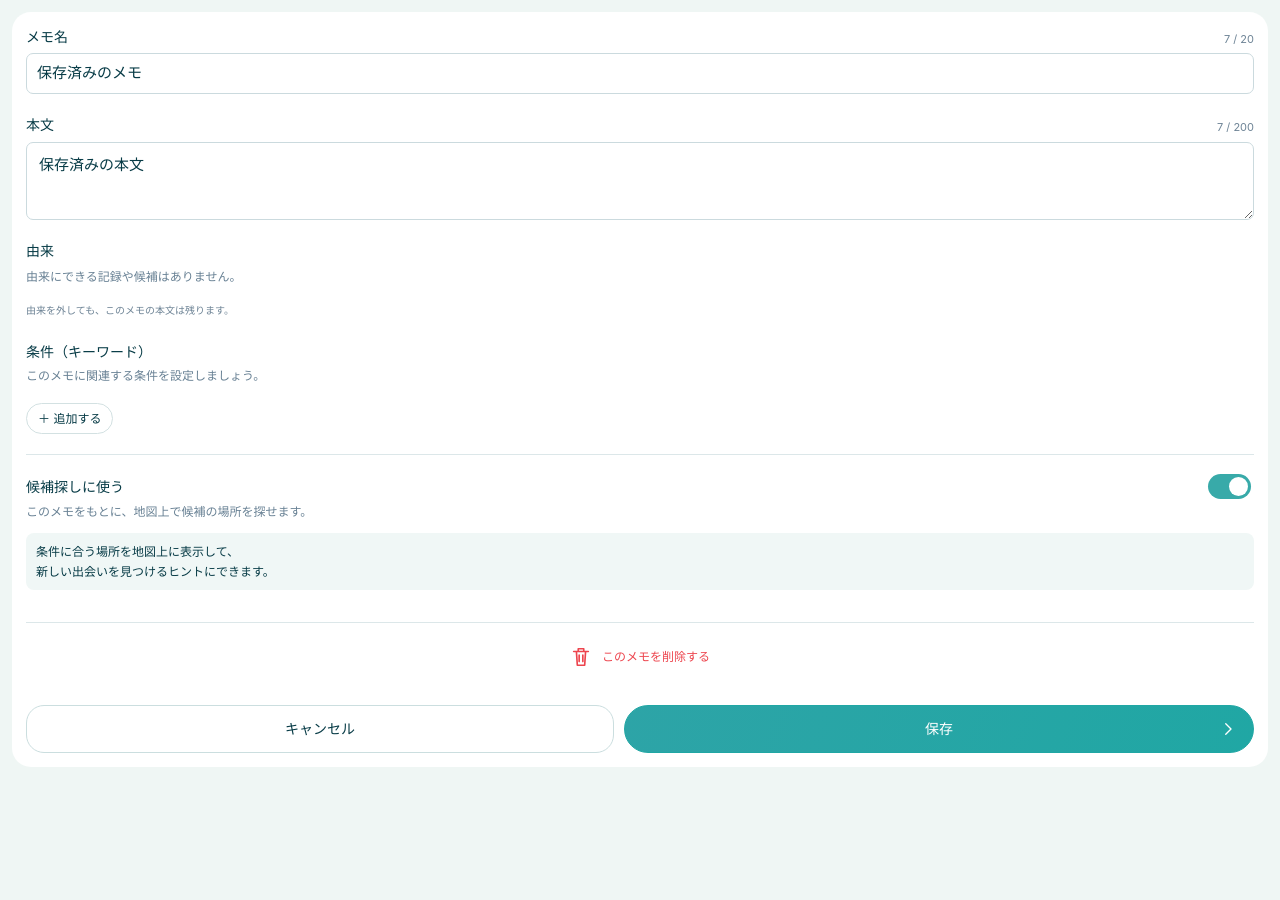
キャンセル後に未確定キーワードと削除確認を残さない
Click the button "＋ 追加する" at (70, 419), box [26,403,113,434]
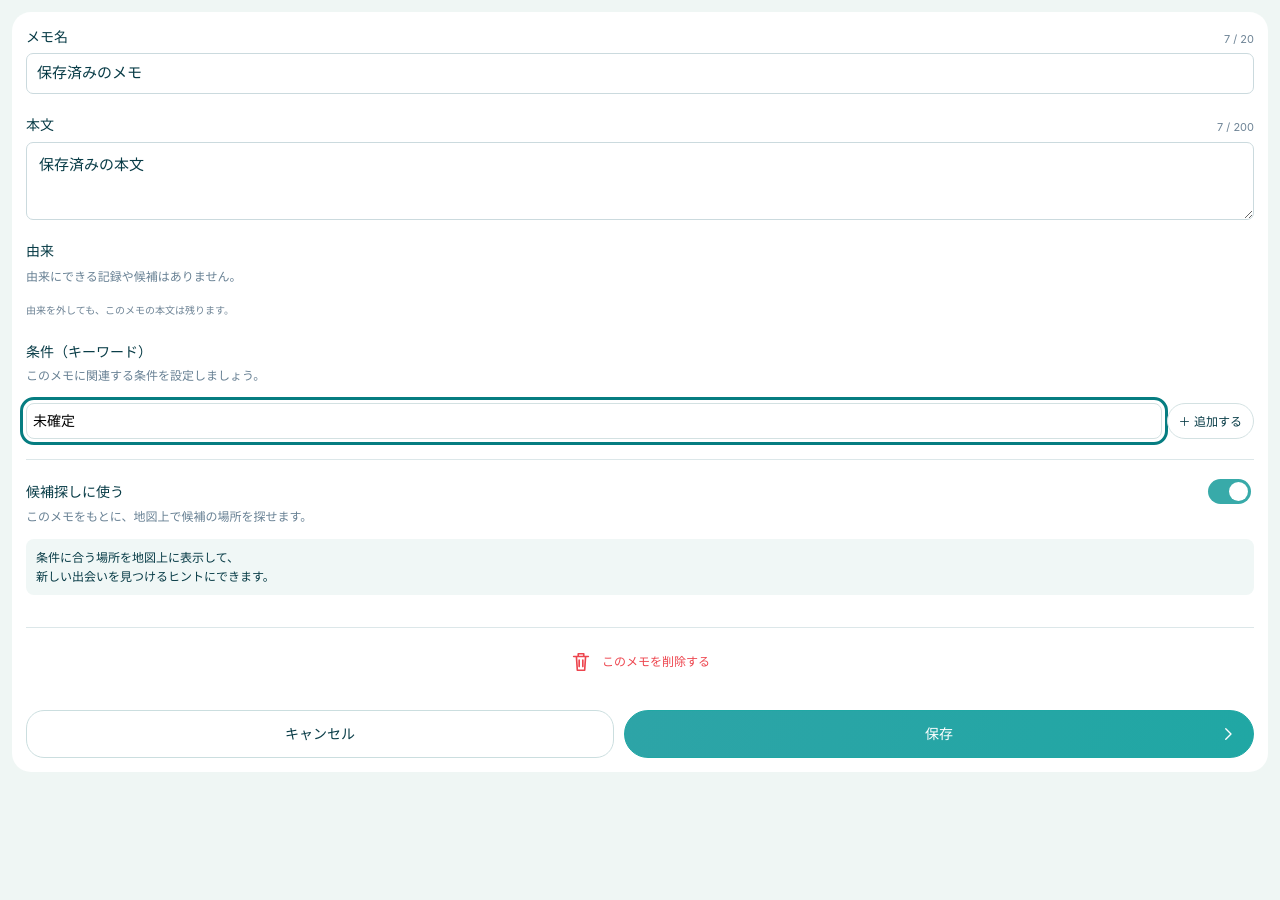
Expected: the field named "追加するキーワード" holds "未確定", [26,403,1162,440]
Click the button "このメモを削除する" at (640, 662), box [26,644,1254,680]
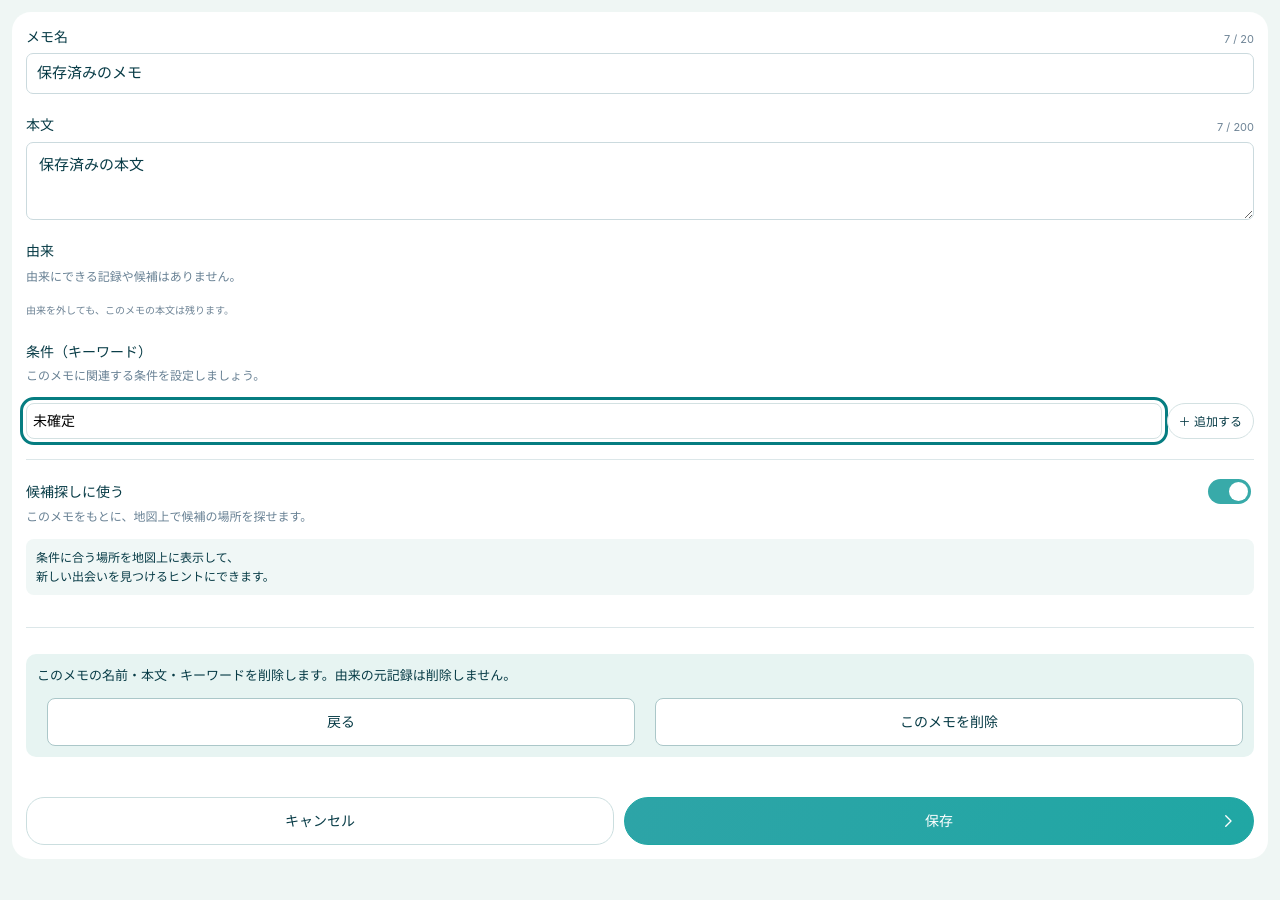
Expected: the text "このメモの名前・本文・キーワードを削除します。" is shown, [37,667,516,683]
Click the button "キャンセル" at (320, 821), box [26,797,614,845]
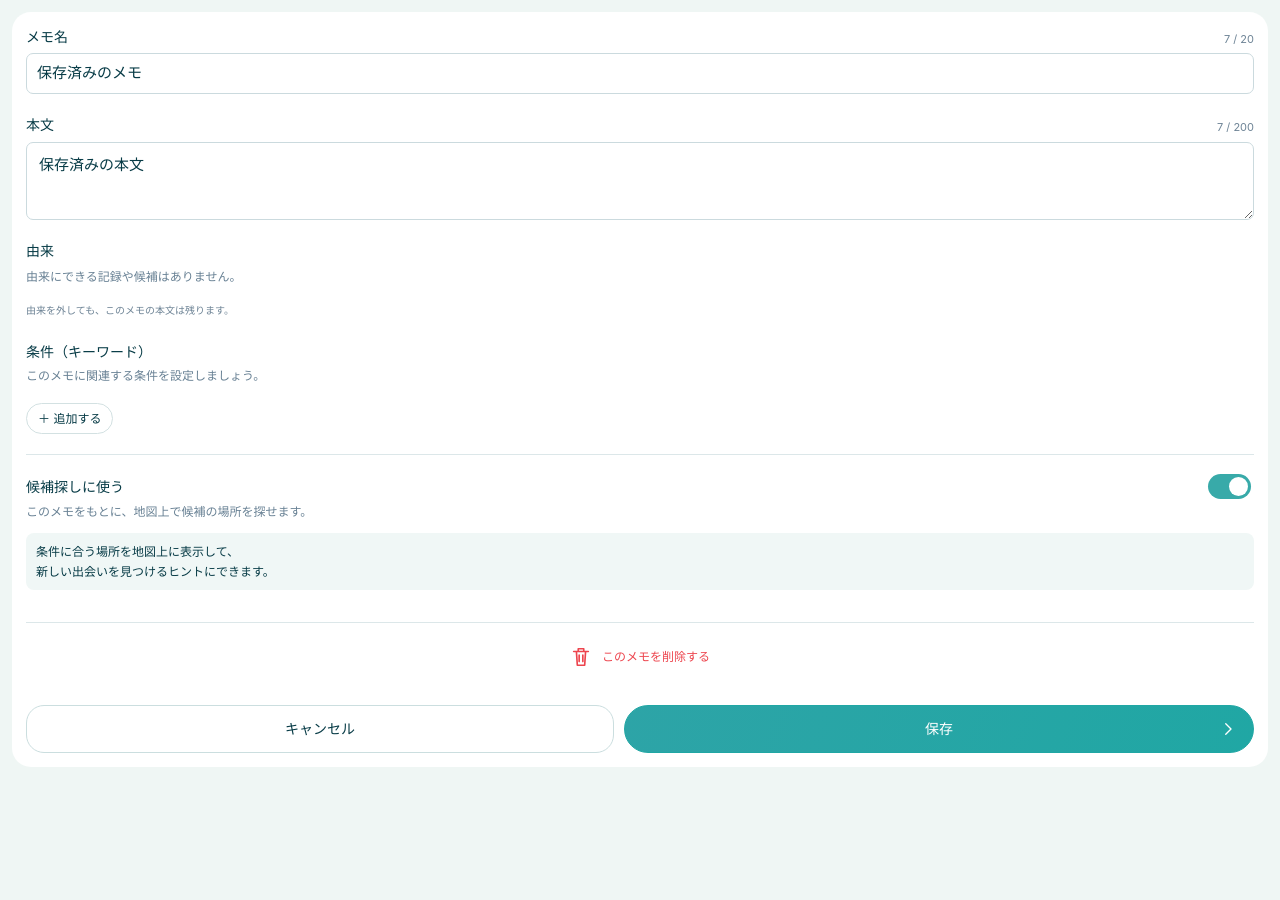
Expected: the field named "追加するキーワード" is gone
Expected: the text "このメモの名前・本文・キーワードを削除します。" is gone
